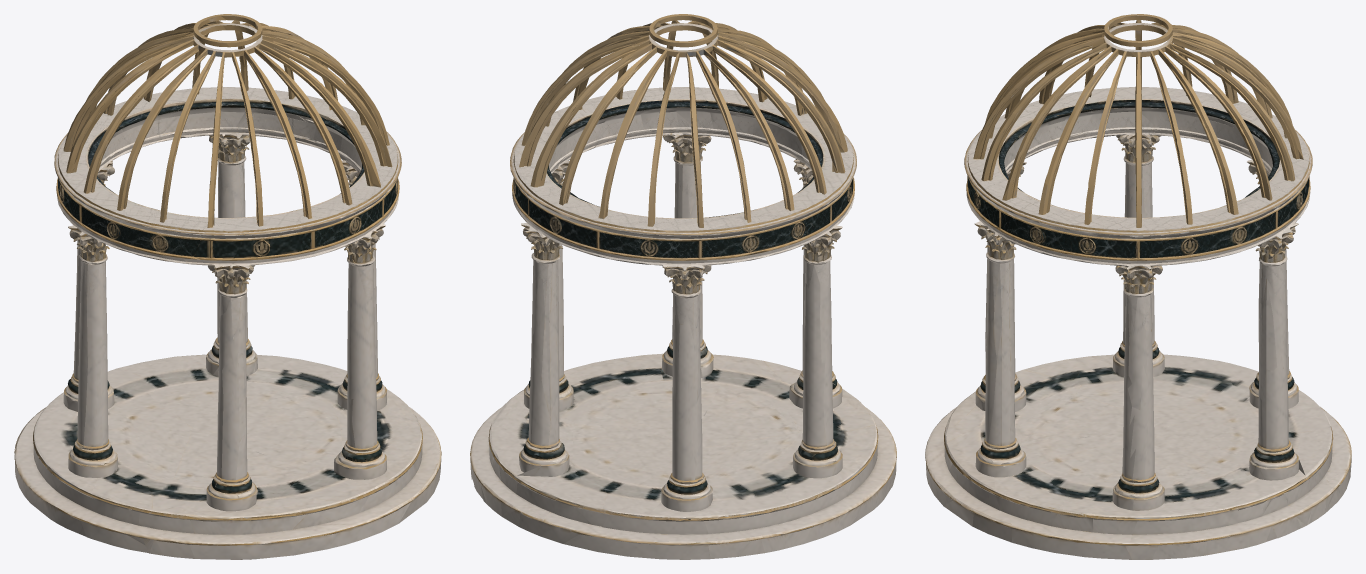
File: observatory-canopy.glb
3 renders of one model, left to right at view 1: azimuth 30°, elevation 25°; view 2: azimuth 150°, elevation 25°; view 3: azimuth 270°, elevation 25°, orthographic.
Visible parts, largest first — view 1: observatory_canopy_mesh; view 2: observatory_canopy_mesh; view 3: observatory_canopy_mesh.
Boxes of the visible parts, x1,y1,x2,y2 form: observatory_canopy_mesh: (14, 14, 441, 559); observatory_canopy_mesh: (470, 14, 896, 559); observatory_canopy_mesh: (925, 14, 1351, 559).
Size of the model in its own units: 2.62 by 3 by 2.62.
Materials: 1 (1 with a texture image).
